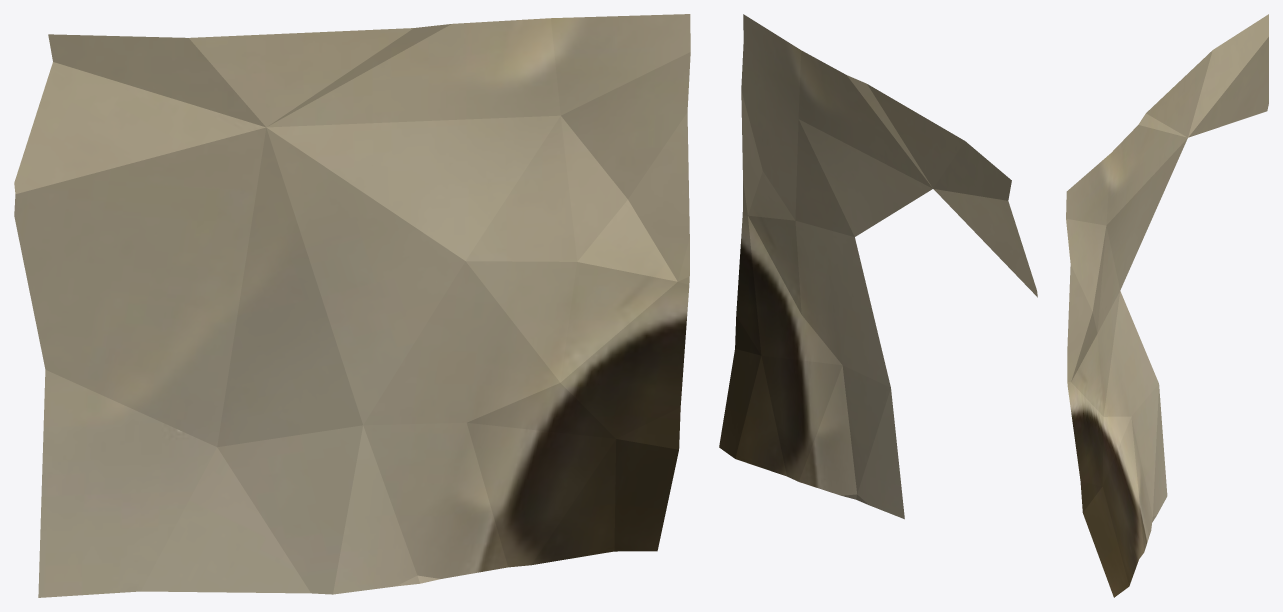
3 views of the same model, side by side, from view 1: azimuth 30°, elevation 25°; view 2: azimuth 150°, elevation 25°; view 3: azimuth 270°, elevation 25° (orthographic). The views are drawn at different scales.
Size of the model in its own units: 0.8374 by 0.8374 by 0.379.
Materials: 3 (3 with a texture image).
